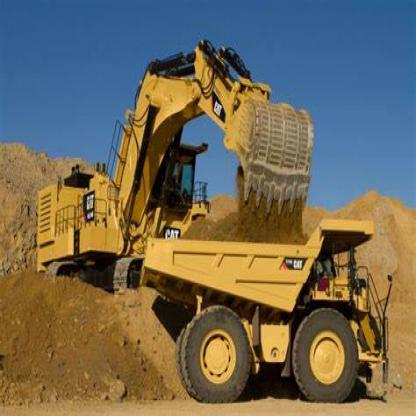dump_truck: (134, 218, 401, 411)
